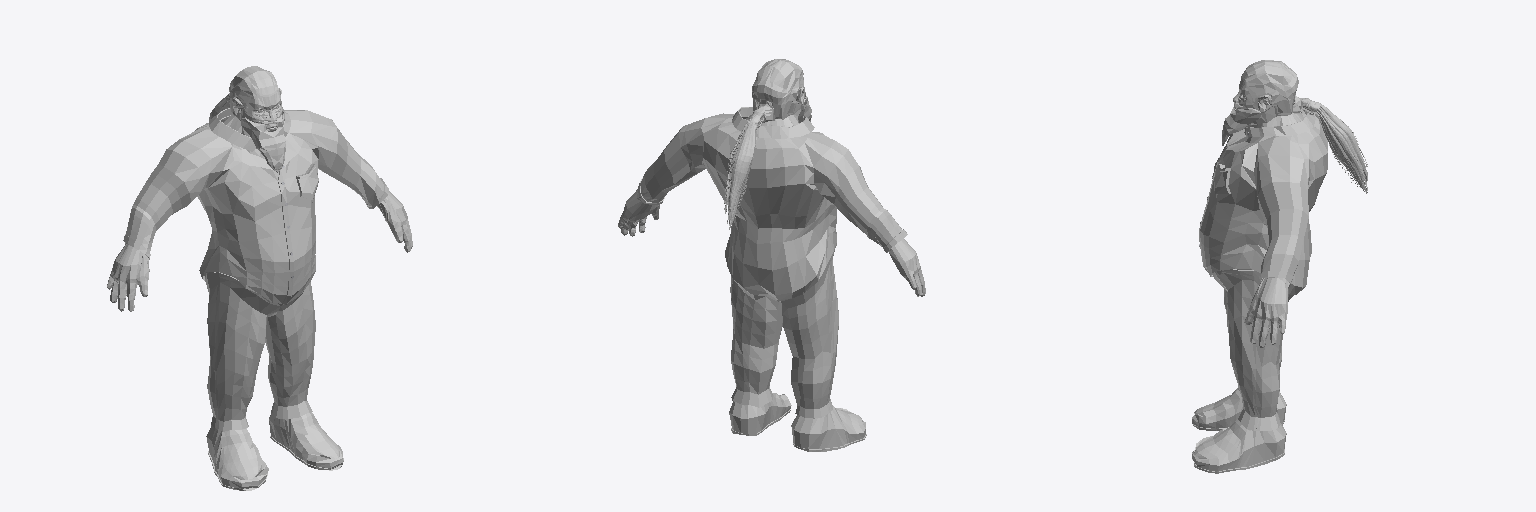
3 views of the same model, side by side, from view 1: azimuth 30°, elevation 25°; view 2: azimuth 150°, elevation 25°; view 3: azimuth 270°, elevation 25° (orthographic).
Visible parts, largest first — view 1: camisa_Cube.001, pantalon_Cube.003, body_Cube.005, zapato_d_Cube.004, zapato_d.001_Cube.007, hair_ponytail01, barba_body.001_Cube.000; view 2: camisa_Cube.001, pantalon_Cube.003, hair_ponytail01, body_Cube.005, zapato_d_Cube.004, zapato_d.001_Cube.007; view 3: camisa_Cube.001, pantalon_Cube.003, hair_ponytail01, zapato_d.001_Cube.007, body_Cube.005, zapato_d_Cube.004, barba_body.001_Cube.000.
Part boxes in pixels (x1,y1,x2,y2): camisa_Cube.001: (123,108,388,304); pantalon_Cube.003: (204,272,315,431); body_Cube.005: (107,88,412,311); zapato_d_Cube.004: (206,425,268,490); zapato_d.001_Cube.007: (269,412,343,470); hair_ponytail01: (209,66,280,121); barba_body.001_Cube.000: (241,111,285,172); camisa_Cube.001: (638,107,907,300); pantalon_Cube.003: (730,243,838,418); hair_ponytail01: (724,59,804,229); body_Cube.005: (618,77,925,296); zapato_d_Cube.004: (791,406,866,451); zapato_d.001_Cube.007: (729,393,791,435); camisa_Cube.001: (1199,110,1327,294); pantalon_Cube.003: (1212,269,1293,430); hair_ponytail01: (1241,60,1367,193); zapato_d.001_Cube.007: (1192,419,1286,473); body_Cube.005: (1233,79,1304,430); zapato_d_Cube.004: (1192,387,1286,430); barba_body.001_Cube.000: (1222,102,1260,145).
Bounding box in the file's own units: 1.69 × 2.07 × 0.8666.
Materials: 6 (1 with a texture image).